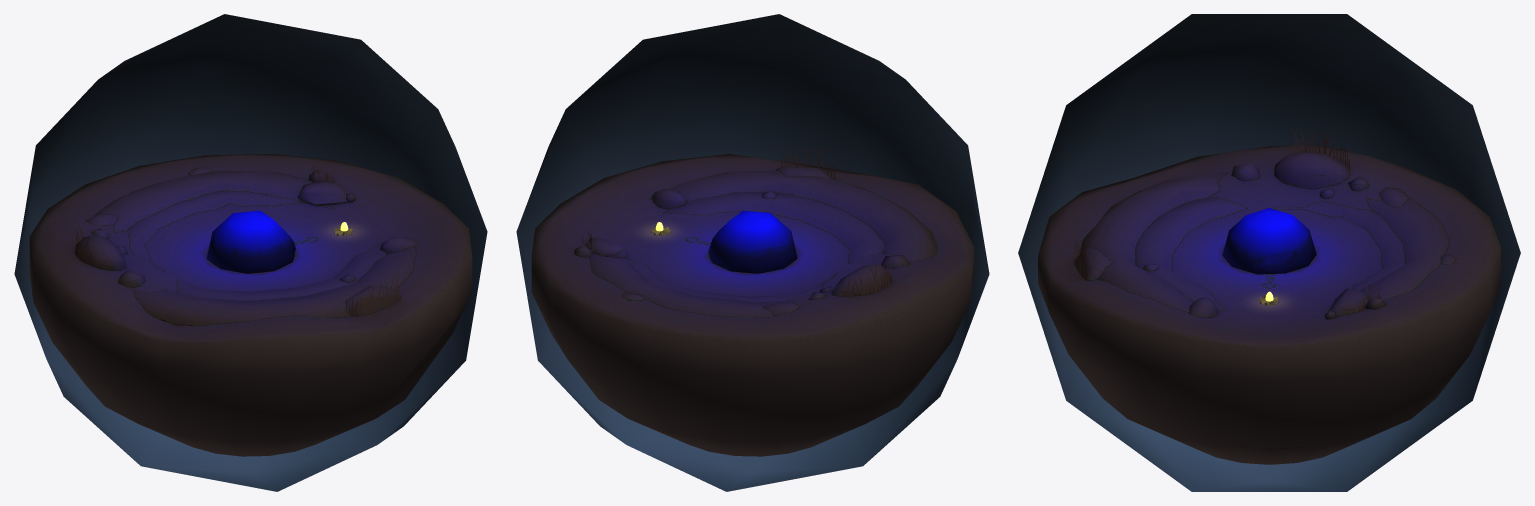
3 views of the same model, side by side, from view 1: azimuth 30°, elevation 25°; view 2: azimuth 150°, elevation 25°; view 3: azimuth 270°, elevation 25° (orthographic). The views are drawn at different scales.
Parts seen in each view (by area): view 1: ground.010, envirosphere.009, lodge.007, GRASS.021; view 2: ground.010, envirosphere.009, lodge.007, GRASS.022; view 3: ground.010, envirosphere.009, lodge.007, GRASS.022.
Part boxes in pixels (bbox=[...]): ground.010: bbox=[29, 153, 472, 456]; envirosphere.009: bbox=[14, 14, 487, 491]; lodge.007: bbox=[207, 210, 295, 273]; GRASS.021: bbox=[348, 273, 401, 316]; ground.010: bbox=[531, 154, 974, 456]; envirosphere.009: bbox=[516, 14, 989, 491]; lodge.007: bbox=[708, 210, 797, 273]; GRASS.022: bbox=[843, 261, 891, 296]; ground.010: bbox=[1038, 145, 1500, 464]; envirosphere.009: bbox=[1018, 14, 1520, 491]; lodge.007: bbox=[1222, 208, 1316, 274]; GRASS.022: bbox=[1290, 130, 1349, 170].
Size of the model in its own units: 13.02 by 13.69 by 13.69.
7 materials, 4 textured.
